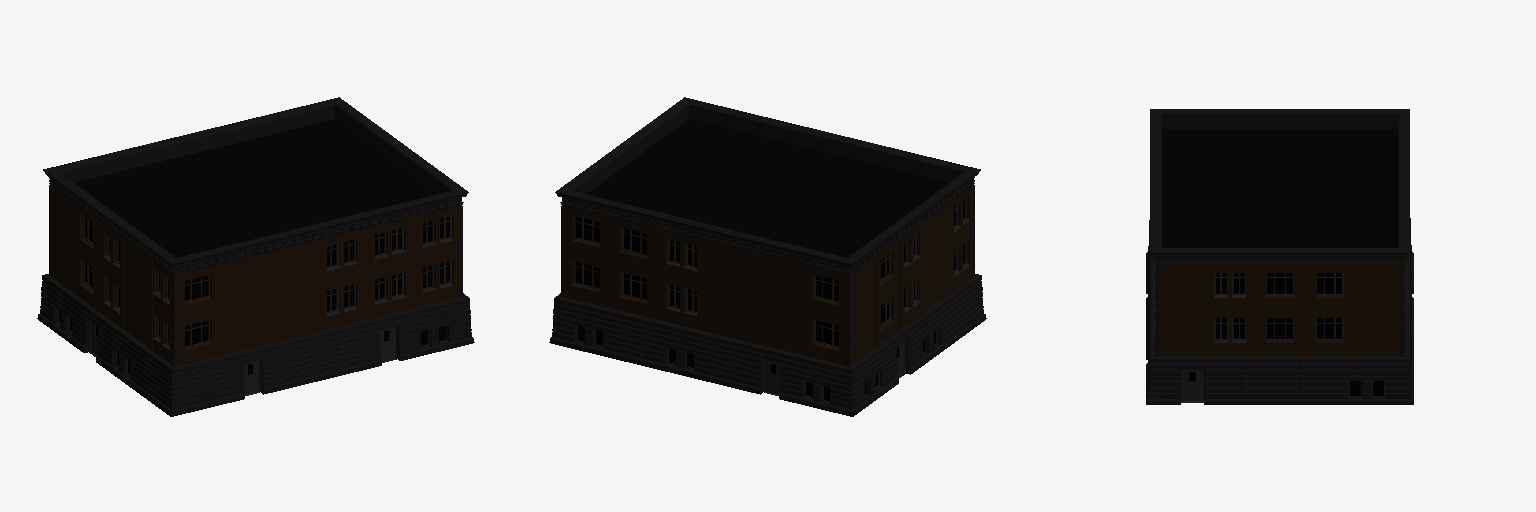
File: building_base.obj
The picture shows the model from 3 angles: view 1: azimuth 30°, elevation 25°; view 2: azimuth 150°, elevation 25°; view 3: azimuth 270°, elevation 25°; orthographic projection.
Parts seen in each view (by area): view 1: Plane, middle_floor_wall_02, trimm, middle_floor_wall_01, ground_floor_wall_02, middle_floor_wall_03, ground_floor_wall_01, ground_floor_wall_03, ground_floor_pillar_CV_0.5m, middle_floor_pillar_CV; view 2: Plane, trimm, middle_floor_wall_03, middle_floor_wall_01, ground_floor_wall_03, middle_floor_wall_02, ground_floor_wall_02, ground_floor_wall_01, ground_floor_pillar_CV_0.5m, middle_floor_pillar_CV; view 3: Plane, trimm, middle_floor_wall_03, middle_floor_wall_01, ground_floor_wall_02, middle_floor_wall_02, ground_floor_wall_03, ground_floor_wall_01, ground_floor_pillar_CV_0.5m, middle_floor_pillar_CV.
Part boxes in pixels (bbox=[...]): Plane: bbox=[75, 119, 436, 257]; middle_floor_wall_02: bbox=[100, 207, 459, 363]; trimm: bbox=[46, 98, 464, 276]; middle_floor_wall_01: bbox=[51, 186, 317, 354]; ground_floor_wall_02: bbox=[133, 321, 367, 412]; middle_floor_wall_03: bbox=[75, 165, 398, 365]; ground_floor_wall_01: bbox=[75, 300, 413, 401]; ground_floor_wall_03: bbox=[46, 279, 458, 388]; ground_floor_pillar_CV_0.5m: bbox=[37, 274, 474, 416]; middle_floor_pillar_CV: bbox=[49, 185, 462, 366]; Plane: bbox=[587, 119, 948, 257]; trimm: bbox=[559, 98, 977, 276]; middle_floor_wall_03: bbox=[562, 165, 898, 365]; middle_floor_wall_01: bbox=[706, 204, 948, 364]; ground_floor_wall_03: bbox=[565, 298, 948, 412]; middle_floor_wall_02: bbox=[658, 135, 972, 331]; ground_floor_wall_02: bbox=[610, 279, 977, 390]; ground_floor_wall_01: bbox=[747, 321, 919, 401]; ground_floor_pillar_CV_0.5m: bbox=[549, 274, 986, 416]; middle_floor_pillar_CV: bbox=[561, 185, 974, 366]; Plane: bbox=[1162, 129, 1397, 247]; trimm: bbox=[1150, 109, 1409, 265]; middle_floor_wall_03: bbox=[1255, 263, 1405, 356]; middle_floor_wall_01: bbox=[1158, 266, 1401, 355]; ground_floor_wall_02: bbox=[1146, 224, 1413, 404]; middle_floor_wall_02: bbox=[1154, 263, 1405, 356]; ground_floor_wall_03: bbox=[1146, 224, 1413, 404]; ground_floor_wall_01: bbox=[1146, 247, 1413, 404]; ground_floor_pillar_CV_0.5m: bbox=[1146, 218, 1413, 404]; middle_floor_pillar_CV: bbox=[1155, 266, 1404, 356].
Bounding box in the file's own units: 21.11 × 10.01 × 16.11.